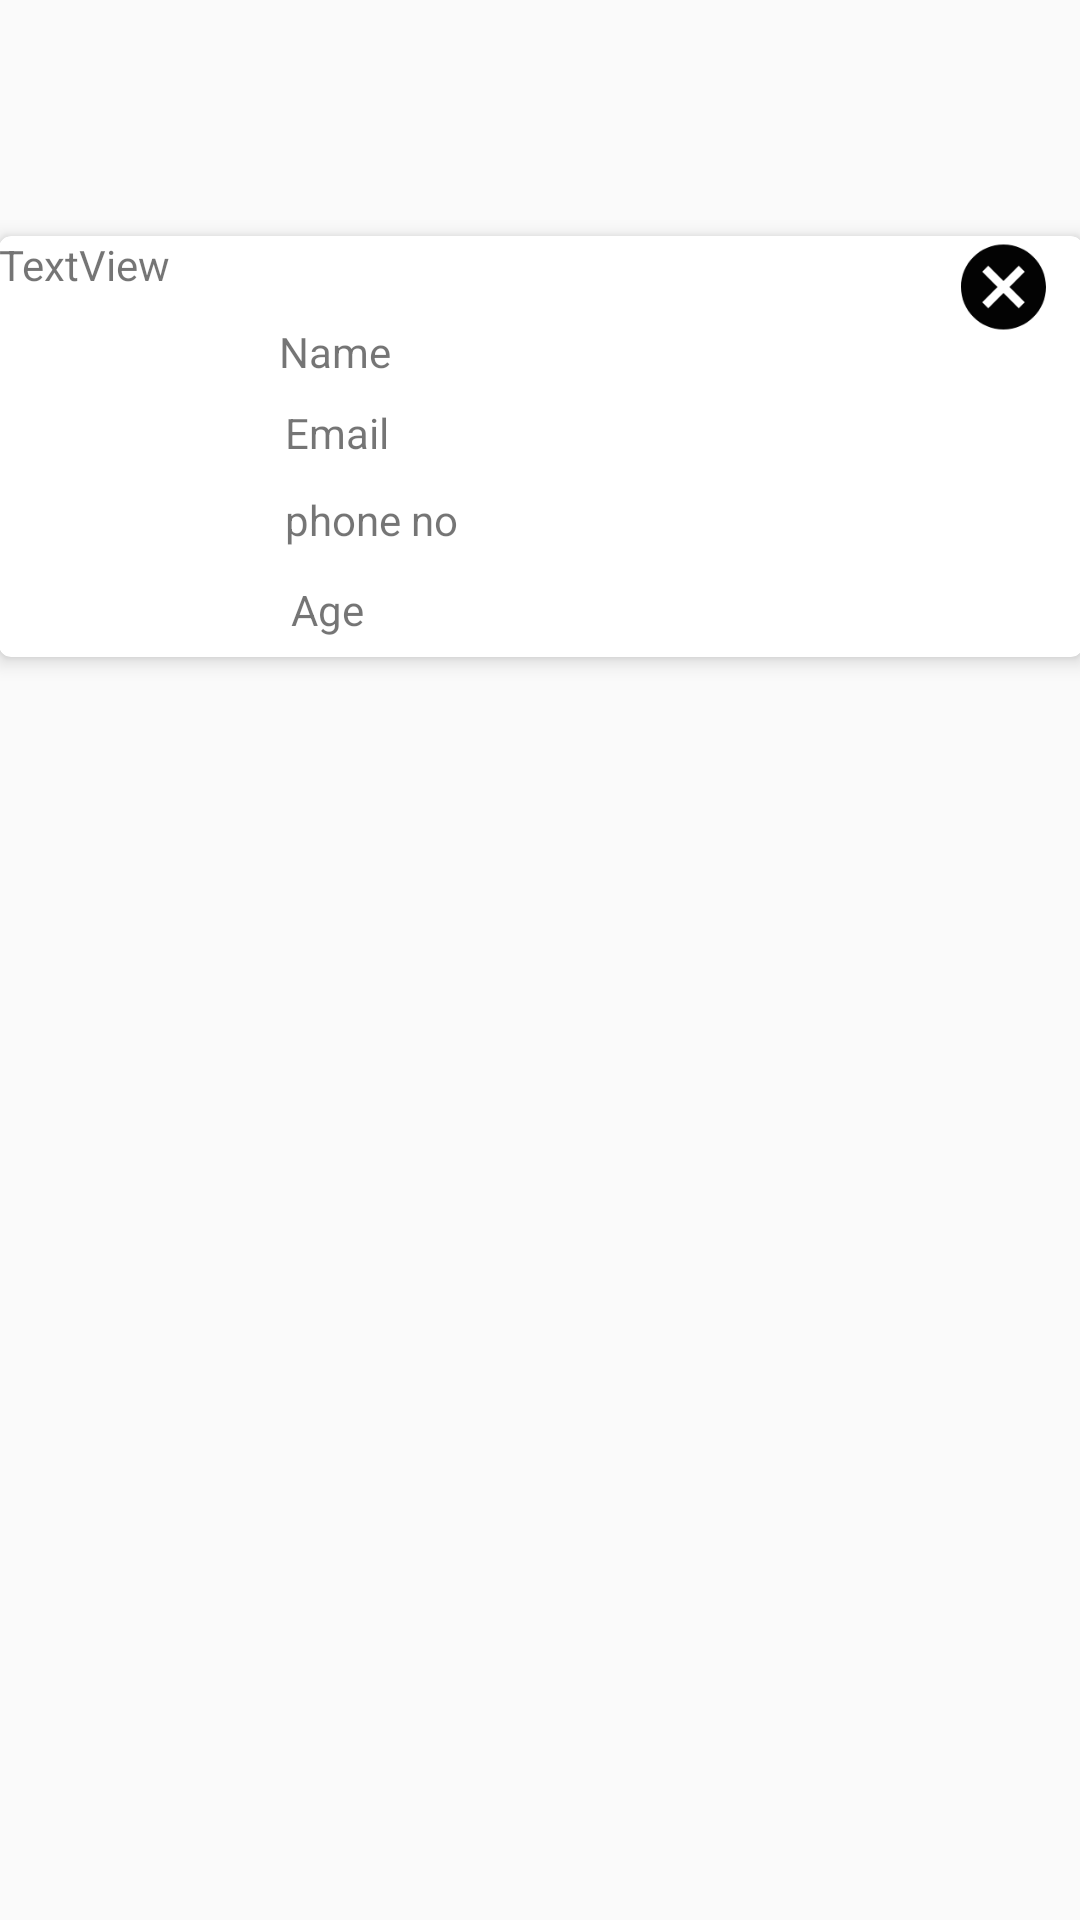

Named icons in this screenshot (1080*1920) and their bounding boxes, (x1, y1, x2, y2):
cancel: (961, 244, 1046, 330)
